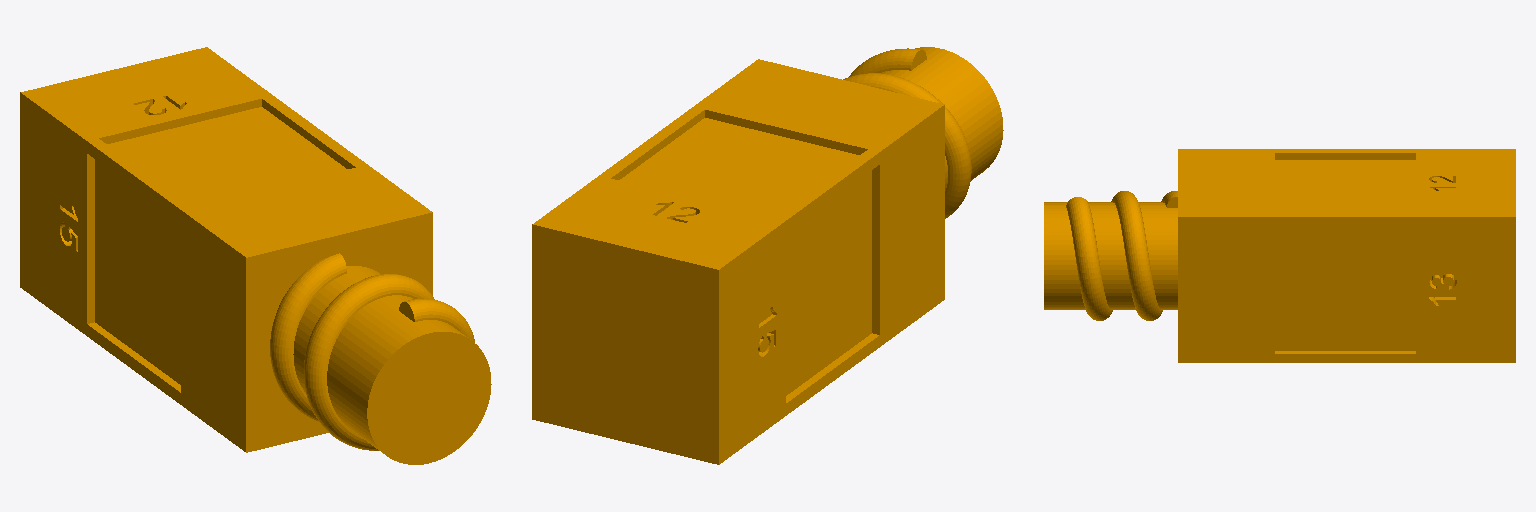
URDF robot description (square_table_leg2):
<?xml version="1.0"?>
<robot name="square_table_leg2">
    <link name="square_table_leg2">
        <visual>
            <geometry>
                <mesh filename="../mesh/square_table/square_table_leg2.obj" scale="1 1 1"/>
            </geometry>
        </visual>
        <collision>
            <geometry>
                <mesh filename="../mesh/square_table/square_table_leg2.obj" scale="1 1 1"/>
            </geometry>
            <sdf resolution="512"/>
        </collision>
    </link>
</robot>

--- Facts derived from the render (not from the file) ---
The picture shows the robot from 3 angles, left to right: view 1: azimuth 30°, elevation 25°; view 2: azimuth 150°, elevation 25°; view 3: azimuth 270°, elevation 25°; orthographic projection.
Model square_table_leg2 with 1 links and 0 joints (none), rooted at square_table_leg2, posed every joint at zero.
Visible links, largest first — view 1: square_table_leg2; view 2: square_table_leg2; view 3: square_table_leg2.
Link boxes in pixels (x1,y1,x2,y2): square_table_leg2: (20,47,491,464); square_table_leg2: (532,47,1003,464); square_table_leg2: (1044,149,1515,362).
Bounding box of the posed robot: 0.03 × 0.0879 × 0.03 m (x, y, z).
Meshes: 1 distinct files referenced, 1 mesh visuals loaded (1 OBJ).